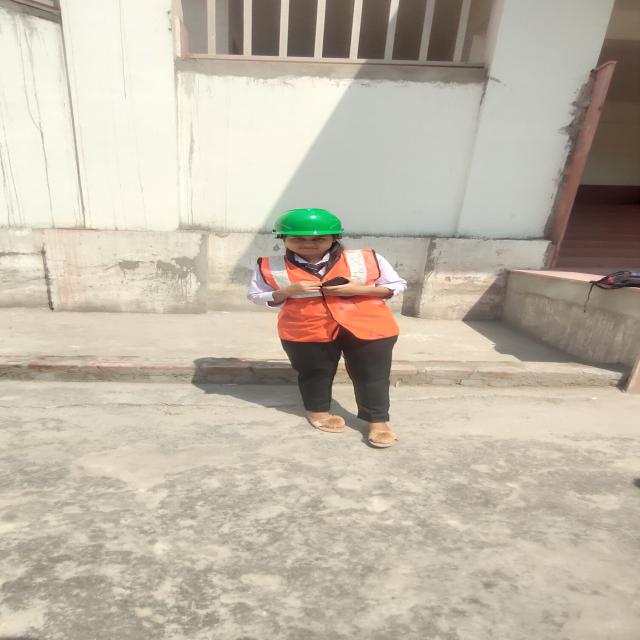safe: (250, 208, 406, 450)
